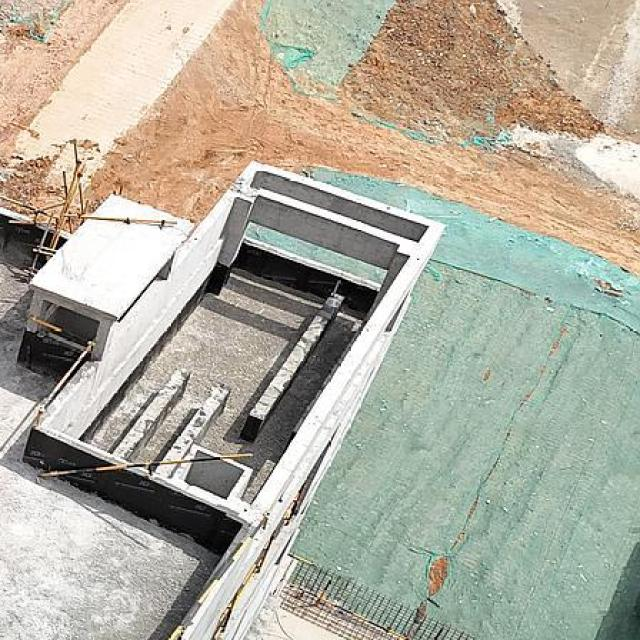edge_guardrail: (209, 480, 307, 640), (162, 511, 271, 640), (286, 551, 411, 640), (27, 313, 97, 428), (36, 452, 254, 479), (0, 193, 54, 226)
